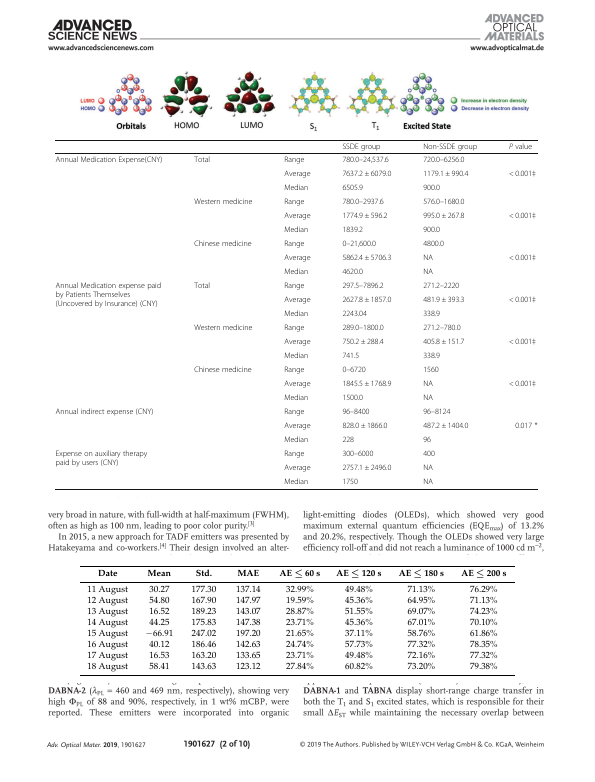borderless: (54, 138, 538, 489), (79, 564, 515, 675)
cell: (55, 281, 162, 309), (55, 449, 148, 468), (55, 155, 163, 165), (55, 407, 154, 417), (193, 197, 253, 207), (193, 323, 253, 333), (193, 239, 252, 249), (193, 365, 252, 375), (341, 169, 392, 179), (341, 253, 392, 263), (341, 295, 392, 305), (341, 379, 392, 389), (341, 463, 392, 473), (422, 142, 478, 151), (341, 155, 390, 165), (422, 169, 469, 179), (341, 211, 388, 221), (341, 421, 388, 431), (422, 421, 469, 431), (335, 569, 382, 579), (397, 569, 444, 579), (460, 569, 507, 579), (86, 585, 128, 596), (86, 596, 128, 607), (86, 607, 128, 618), (86, 618, 128, 629), (86, 629, 128, 640), (86, 640, 128, 651), (86, 651, 128, 662), (86, 662, 128, 673), (341, 337, 385, 347), (422, 155, 465, 165), (341, 197, 384, 207), (422, 197, 465, 207), (422, 211, 465, 221), (341, 281, 384, 291), (422, 295, 465, 305), (341, 323, 384, 333), (422, 337, 465, 347), (278, 569, 321, 579), (422, 323, 461, 333), (422, 281, 460, 291), (341, 142, 381, 151), (341, 239, 377, 249), (341, 449, 374, 459), (343, 585, 373, 596), (406, 585, 436, 596), (468, 585, 498, 596), (343, 596, 373, 607), (406, 596, 436, 607), (468, 596, 498, 607), (343, 607, 373, 618), (406, 607, 436, 618), (468, 607, 498, 618), (343, 618, 373, 629), (406, 618, 436, 629), (468, 618, 498, 629), (144, 629, 174, 640), (343, 629, 373, 640), (406, 629, 436, 640), (468, 629, 498, 640), (343, 640, 373, 651), (406, 640, 436, 651), (468, 640, 498, 651), (343, 651, 373, 662), (406, 651, 436, 662), (468, 651, 498, 662), (343, 662, 373, 673), (406, 662, 436, 673), (468, 662, 498, 673), (285, 585, 314, 596), (285, 596, 314, 607), (285, 607, 314, 618), (285, 618, 314, 629), (285, 629, 314, 640), (285, 640, 314, 651), (285, 651, 314, 662), (285, 662, 314, 673), (190, 585, 217, 596), (234, 585, 261, 596), (190, 596, 217, 607), (234, 596, 261, 607), (190, 607, 217, 618), (234, 607, 261, 618), (190, 618, 217, 629), (234, 618, 261, 629), (190, 629, 217, 640), (234, 629, 261, 640), (190, 640, 217, 651), (234, 640, 261, 651), (190, 651, 217, 662), (234, 651, 261, 662), (190, 662, 217, 673), (234, 662, 261, 673), (508, 169, 537, 179), (508, 211, 537, 221), (508, 253, 537, 263), (508, 295, 537, 305), (508, 337, 537, 347), (508, 379, 537, 389), (341, 407, 370, 417), (422, 407, 451, 417), (283, 169, 311, 179), (283, 211, 311, 221), (283, 253, 311, 263), (283, 295, 311, 305), (283, 337, 311, 347), (283, 379, 311, 389), (283, 421, 311, 431), (283, 463, 311, 473), (341, 309, 368, 319), (283, 183, 309, 193), (283, 225, 309, 235), (283, 267, 309, 277), (283, 309, 309, 319), (283, 351, 309, 361), (341, 365, 367, 375), (283, 393, 309, 403), (283, 435, 309, 445), (283, 477, 309, 487), (148, 585, 170, 596), (148, 596, 170, 607), (148, 607, 170, 618), (148, 618, 170, 629), (148, 640, 170, 651), (148, 651, 170, 662), (148, 662, 170, 673), (514, 421, 538, 431), (341, 183, 364, 193), (341, 225, 364, 235), (422, 239, 445, 249), (341, 267, 364, 277), (341, 393, 364, 403), (508, 142, 533, 151), (283, 155, 305, 165), (283, 197, 305, 207), (283, 239, 305, 249), (283, 281, 305, 291), (283, 323, 305, 333), (283, 365, 305, 375), (283, 407, 305, 417), (283, 449, 305, 459), (146, 569, 172, 577), (422, 183, 441, 193), (422, 225, 441, 235), (422, 309, 441, 319), (341, 351, 360, 361), (422, 351, 441, 361), (236, 569, 259, 577), (193, 155, 211, 165), (193, 281, 211, 291), (422, 365, 440, 375), (341, 477, 359, 487), (96, 569, 118, 577), (194, 569, 212, 577), (341, 435, 355, 445), (422, 449, 436, 459), (422, 253, 434, 263), (422, 267, 434, 277), (422, 379, 434, 389), (422, 393, 434, 403), (422, 463, 434, 473), (422, 477, 434, 487), (422, 435, 432, 445)
